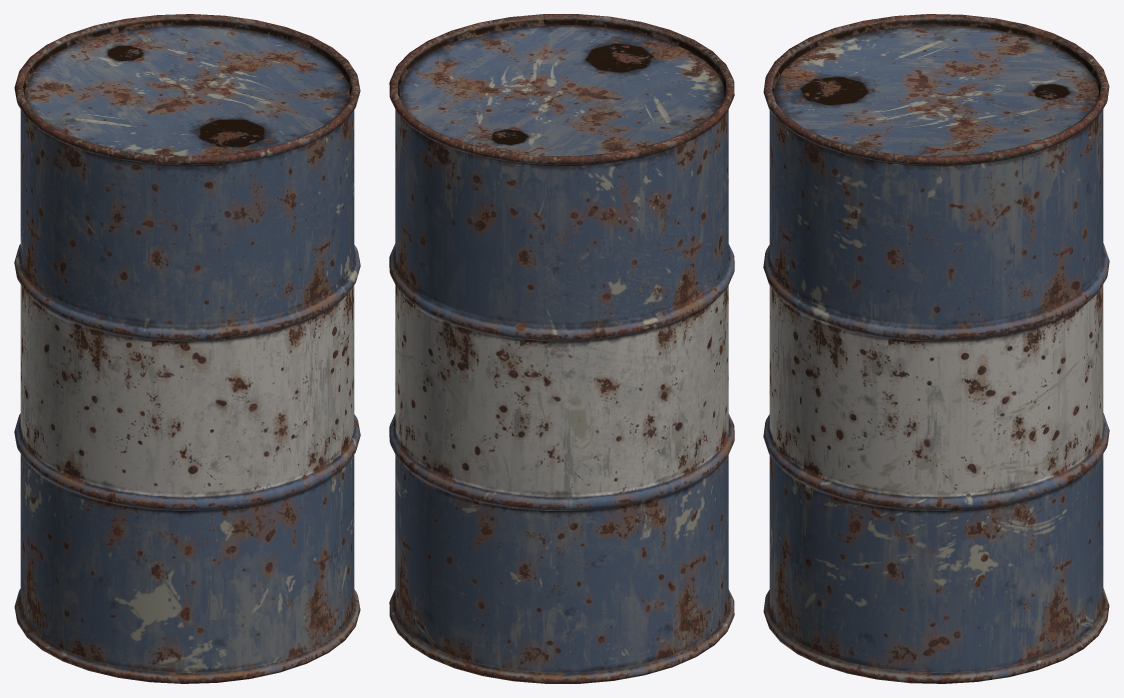
Rendered from Barrel_9.glb.
3 views of the same model, side by side, from view 1: azimuth 30°, elevation 25°; view 2: azimuth 150°, elevation 25°; view 3: azimuth 270°, elevation 25° (orthographic).
Parts seen in each view (by area): view 1: Barrel2_v2_low_Metal2_v2_0; view 2: Barrel2_v2_low_Metal2_v2_0; view 3: Barrel2_v2_low_Metal2_v2_0.
Part boxes in pixels (x1,y1,x2,y2): Barrel2_v2_low_Metal2_v2_0: (14,14,360,683); Barrel2_v2_low_Metal2_v2_0: (389,14,734,683); Barrel2_v2_low_Metal2_v2_0: (763,14,1109,683).
Bounding box in the file's own units: 0.4116 × 0.6896 × 0.4116.
Materials: 1 (1 with a texture image).
